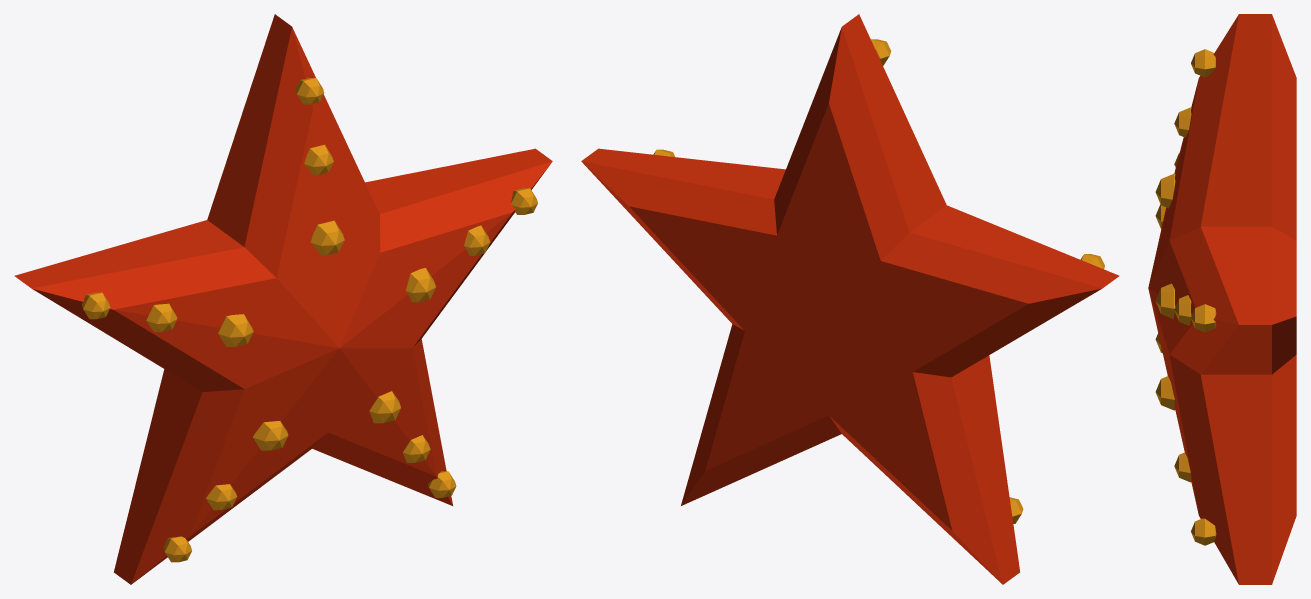
Rendered from pq_starfish.obj.
3 views of the same model, side by side, from view 1: azimuth 30°, elevation 25°; view 2: azimuth 150°, elevation 25°; view 3: azimuth 270°, elevation 25° (orthographic). The views are drawn at different scales.
Parts seen in each view (by area): view 1: Starfish, Starfish bumps; view 2: Starfish, Starfish bumps; view 3: Starfish, Starfish bumps.
Part boxes in pixels (bbox=[...]): Starfish: bbox=[14, 14, 552, 584]; Starfish bumps: bbox=[81, 78, 537, 562]; Starfish: bbox=[581, 14, 1119, 584]; Starfish bumps: bbox=[653, 39, 1104, 523]; Starfish: bbox=[1148, 14, 1296, 584]; Starfish bumps: bbox=[1155, 49, 1216, 545].
Bounding box in the file's own units: 0.4185 × 0.398 × 0.108.
